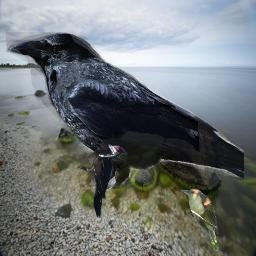Crow: (6, 32, 244, 189)
Cuckoo: (180, 188, 220, 254)
Woodpecker: (77, 143, 128, 218)
